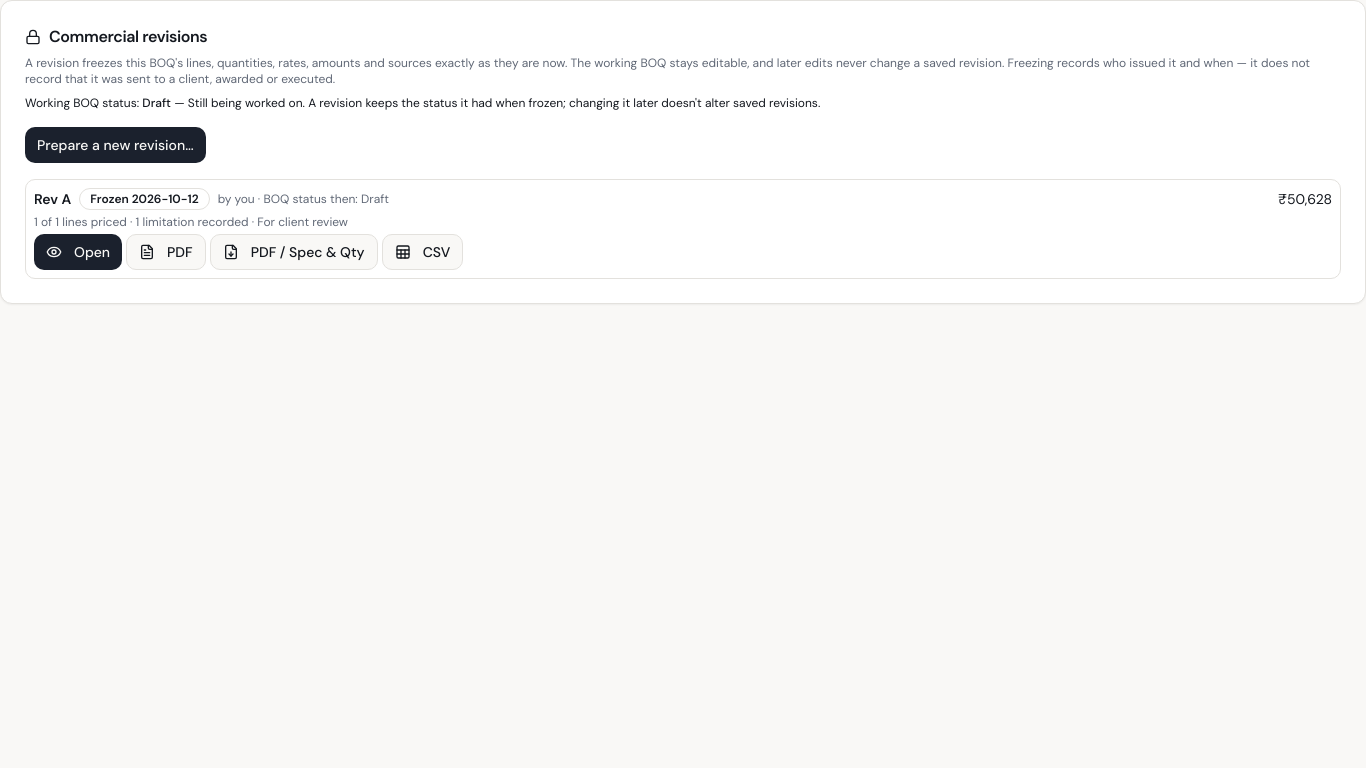
Test: BoqRevisionsPanel — saved revisions › says when the working BOQ still matches the revision
The image size is (1366, 768).
Click the button "Open".
click(78, 252)  # box [34, 234, 122, 270]
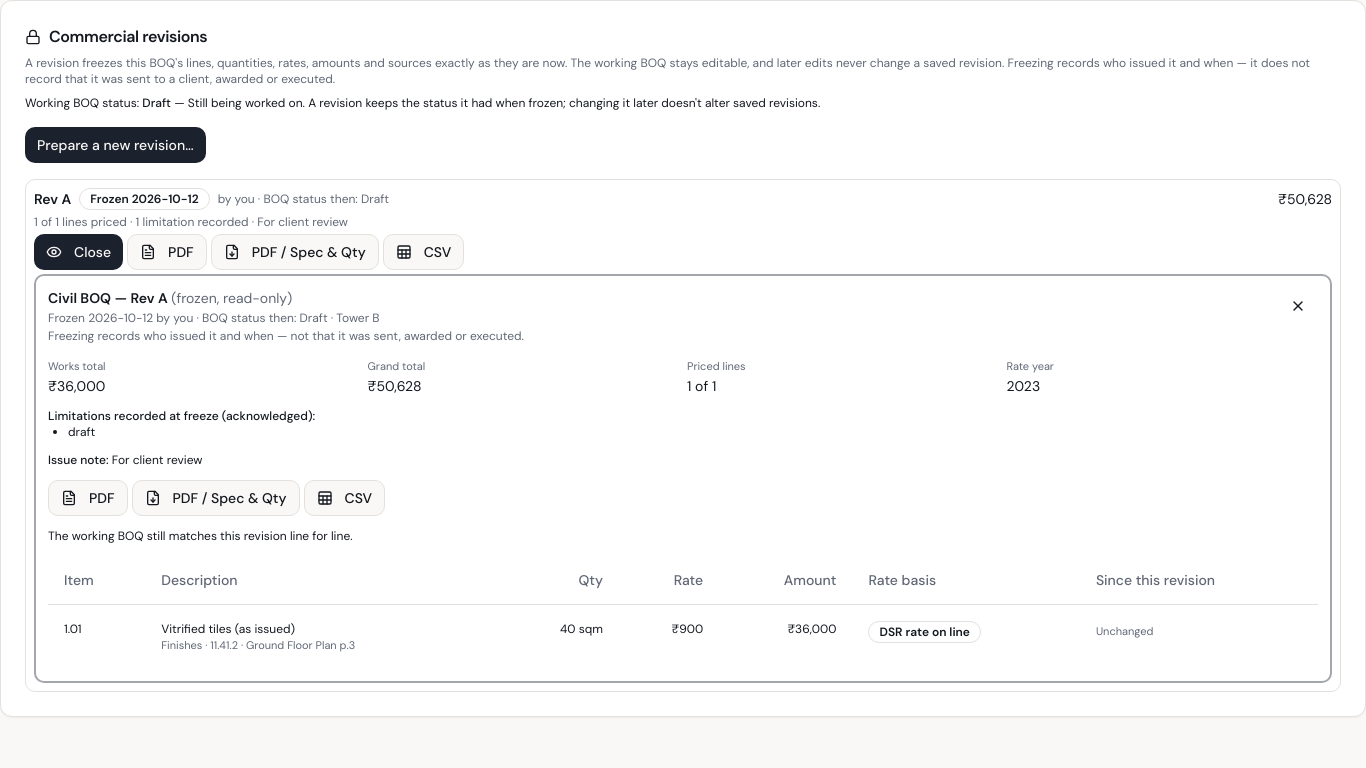
Now the text "The working BOQ still matches this revision line for line." is shown, box [48, 528, 353, 544]
